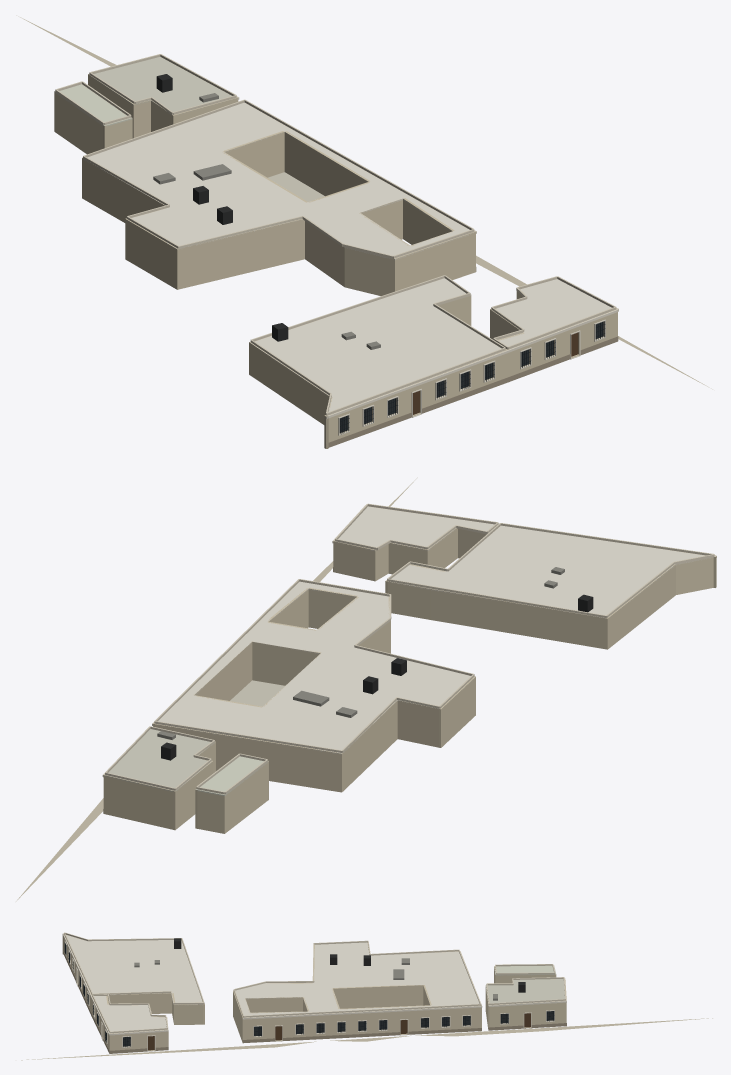
The picture shows the model from 3 angles, top to bottom: view 1: azimuth 30°, elevation 25°; view 2: azimuth 150°, elevation 25°; view 3: azimuth 270°, elevation 25°; orthographic projection. The views are drawn at different scales.
Parts seen in each view (by area): view 1: edificio; view 2: edificio; view 3: edificio.
Boxes of the visible parts, box(x1,y1,x2,y2) form: edificio: box(16, 15, 712, 448); edificio: box(16, 477, 716, 901); edificio: box(21, 932, 712, 1060).
Size of the model in its own units: 36.25 by 5.2 by 100.
